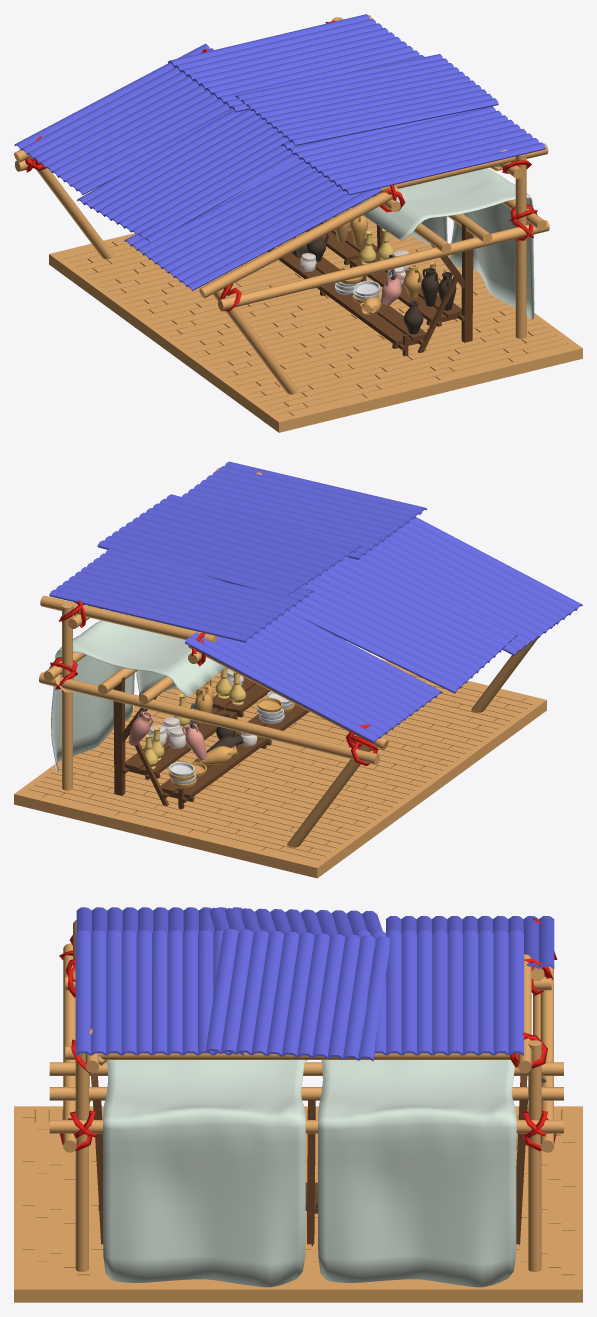
File: Pottery.fbx
3 views of the same model, one above another, from view 1: azimuth 30°, elevation 25°; view 2: azimuth 150°, elevation 25°; view 3: azimuth 270°, elevation 25° (orthographic). The views are drawn at different scales.
Parts seen in each view (by area): view 1: Cube.011; view 2: Cube.011; view 3: Cube.011.
Part boxes in pixels (bbox=[...]): Cube.011: bbox=[14, 14, 582, 432]; Cube.011: bbox=[14, 461, 582, 878]; Cube.011: bbox=[14, 907, 582, 1302].
Size of the model in its own units: 715 by 379 by 777.
